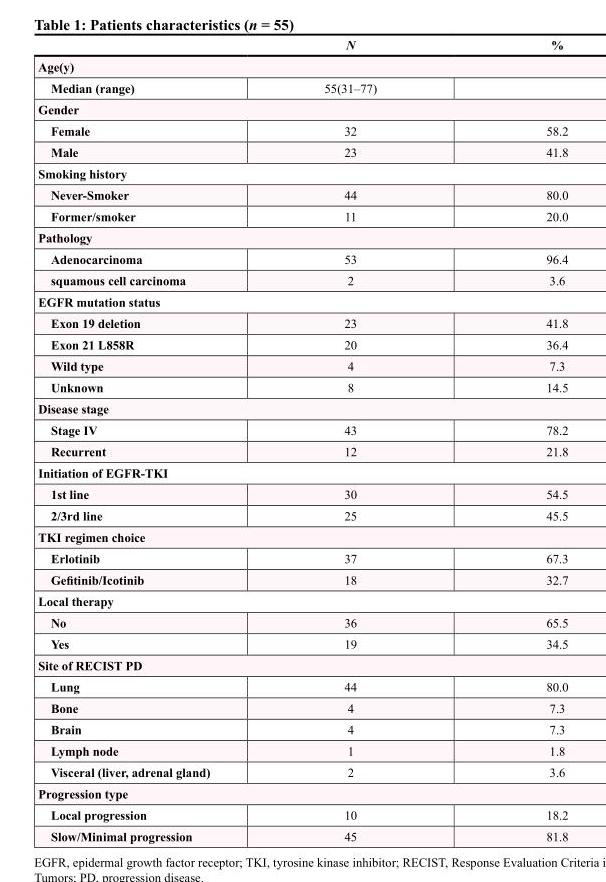table: (37, 37, 567, 842)
table column: (37, 37, 266, 842), (266, 37, 460, 842), (460, 37, 567, 842)
table column header: (37, 37, 567, 55)
table projected row header: (37, 290, 567, 312), (37, 397, 567, 419), (37, 461, 567, 483), (37, 525, 567, 547), (37, 55, 567, 76), (37, 98, 567, 119), (37, 162, 567, 183), (37, 226, 567, 247), (37, 590, 567, 611), (37, 654, 567, 675), (37, 782, 567, 803)
table row: (37, 76, 567, 98), (37, 119, 567, 141), (37, 183, 567, 205), (37, 247, 567, 269), (37, 290, 567, 312), (37, 354, 567, 376), (37, 397, 567, 419), (37, 461, 567, 483), (37, 525, 567, 547), (37, 568, 567, 590), (37, 632, 567, 654), (37, 696, 567, 718), (37, 739, 567, 761), (37, 803, 567, 825), (37, 55, 567, 76), (37, 98, 567, 119), (37, 141, 567, 162), (37, 162, 567, 183), (37, 205, 567, 226), (37, 226, 567, 247), (37, 269, 567, 290), (37, 312, 567, 333), (37, 333, 567, 354), (37, 376, 567, 397), (37, 419, 567, 440), (37, 440, 567, 461), (37, 483, 567, 504), (37, 504, 567, 525), (37, 547, 567, 568), (37, 590, 567, 611), (37, 611, 567, 632), (37, 654, 567, 675), (37, 675, 567, 696), (37, 718, 567, 739), (37, 761, 567, 782), (37, 782, 567, 803), (37, 37, 567, 55), (37, 825, 567, 842)
